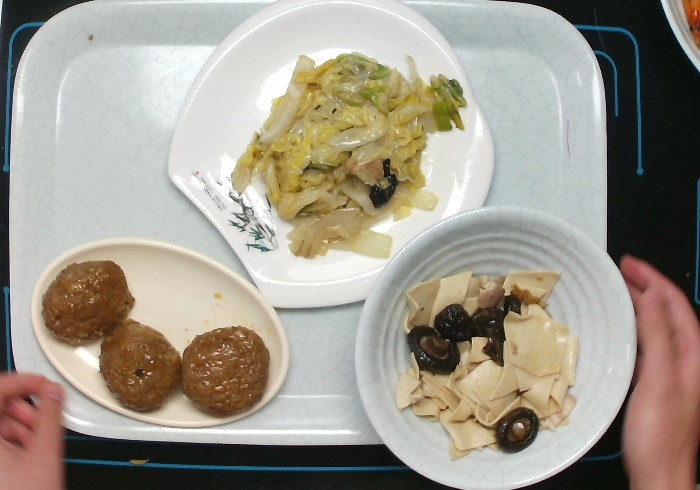JYsf-Mian_Pan: (162, 2, 500, 316)
JYsf-Tuo_Yuan_Wan: (28, 233, 296, 438)
JYsf-Xiao_Tang_Wan: (350, 196, 640, 489)
